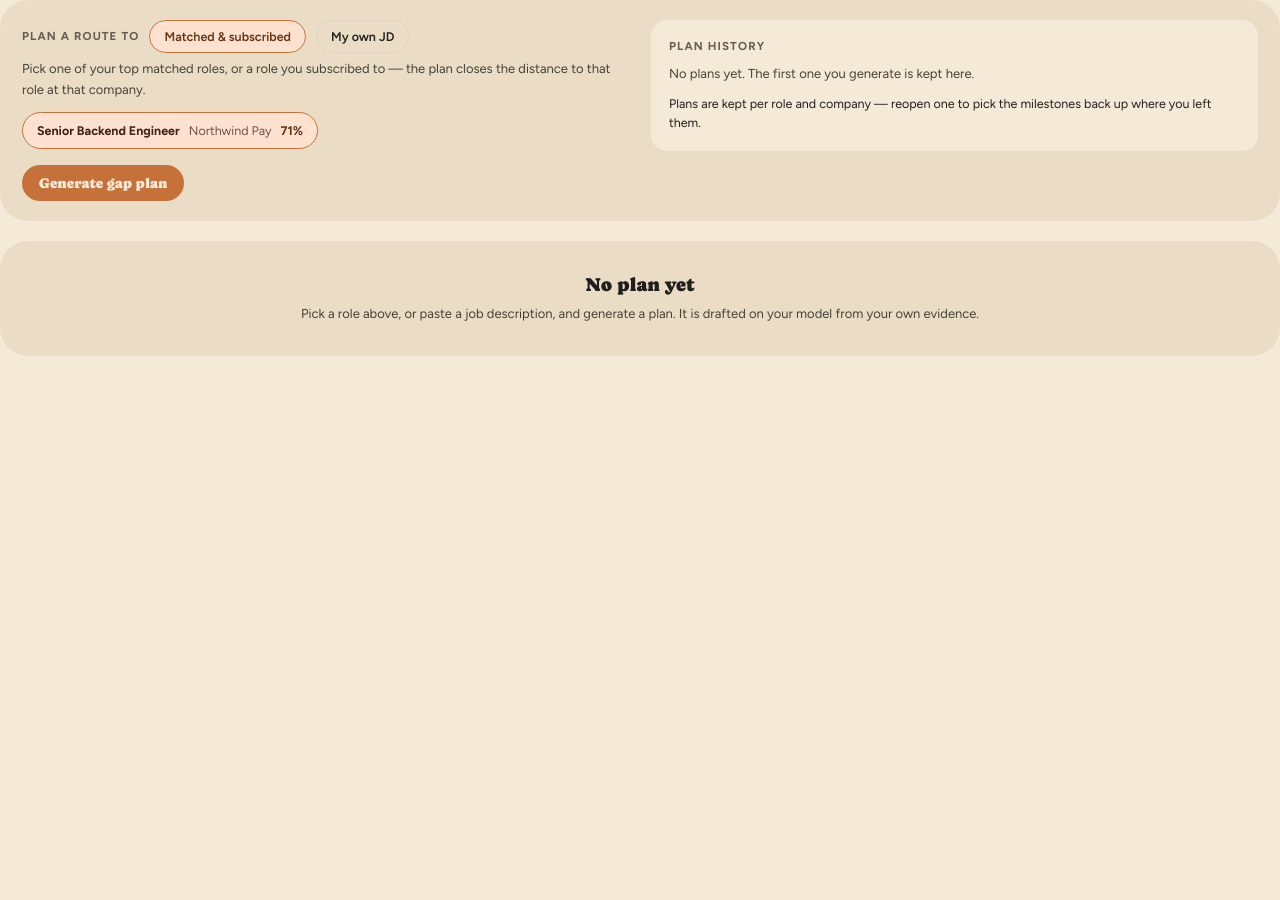
Test: gap plan screen › pastes a JD as a private target before pricing a plan for it
Click the button "My own JD" at (363, 37), box [316,20,409,53]
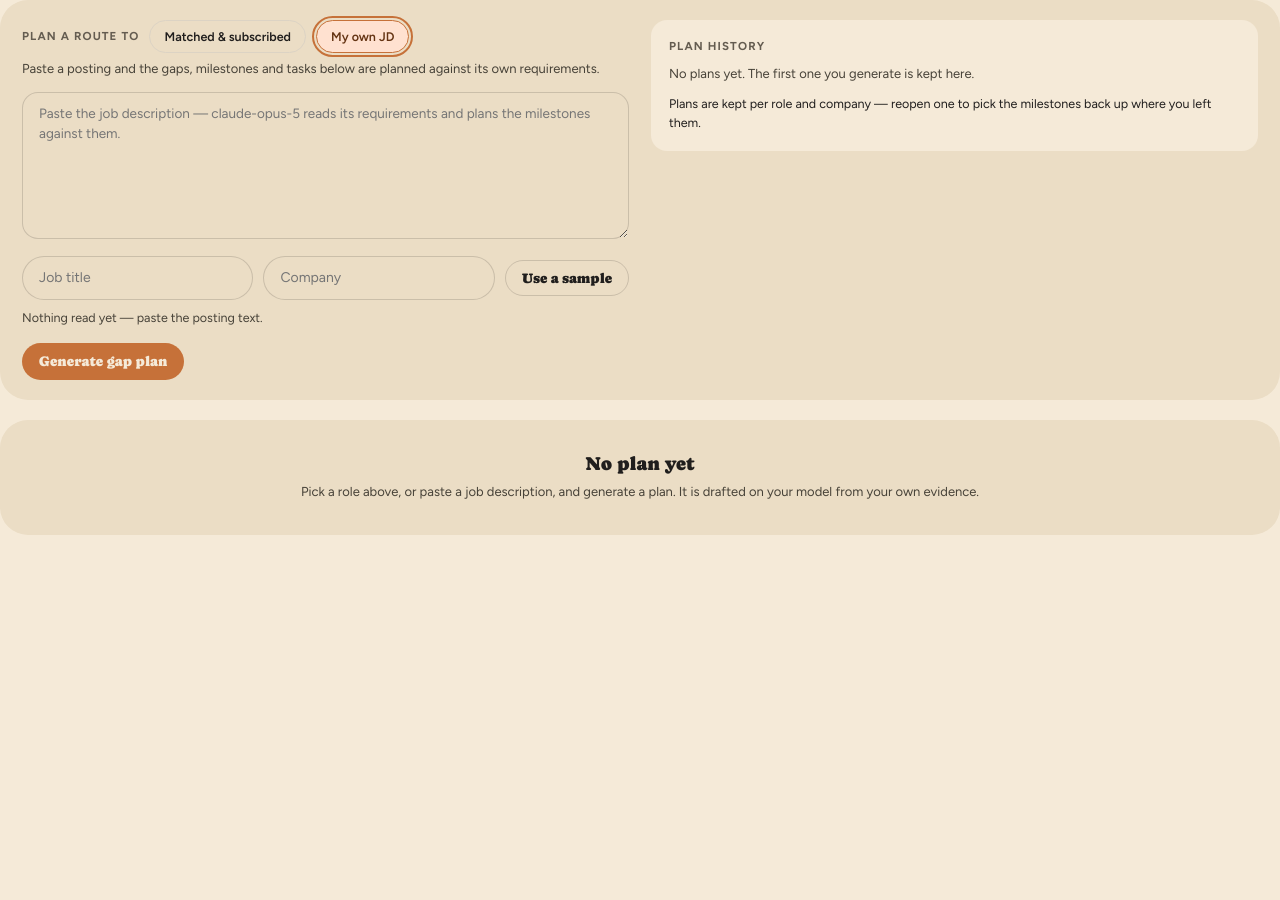
Click the button "Use a sample" at (567, 278), box [505,260,629,296]
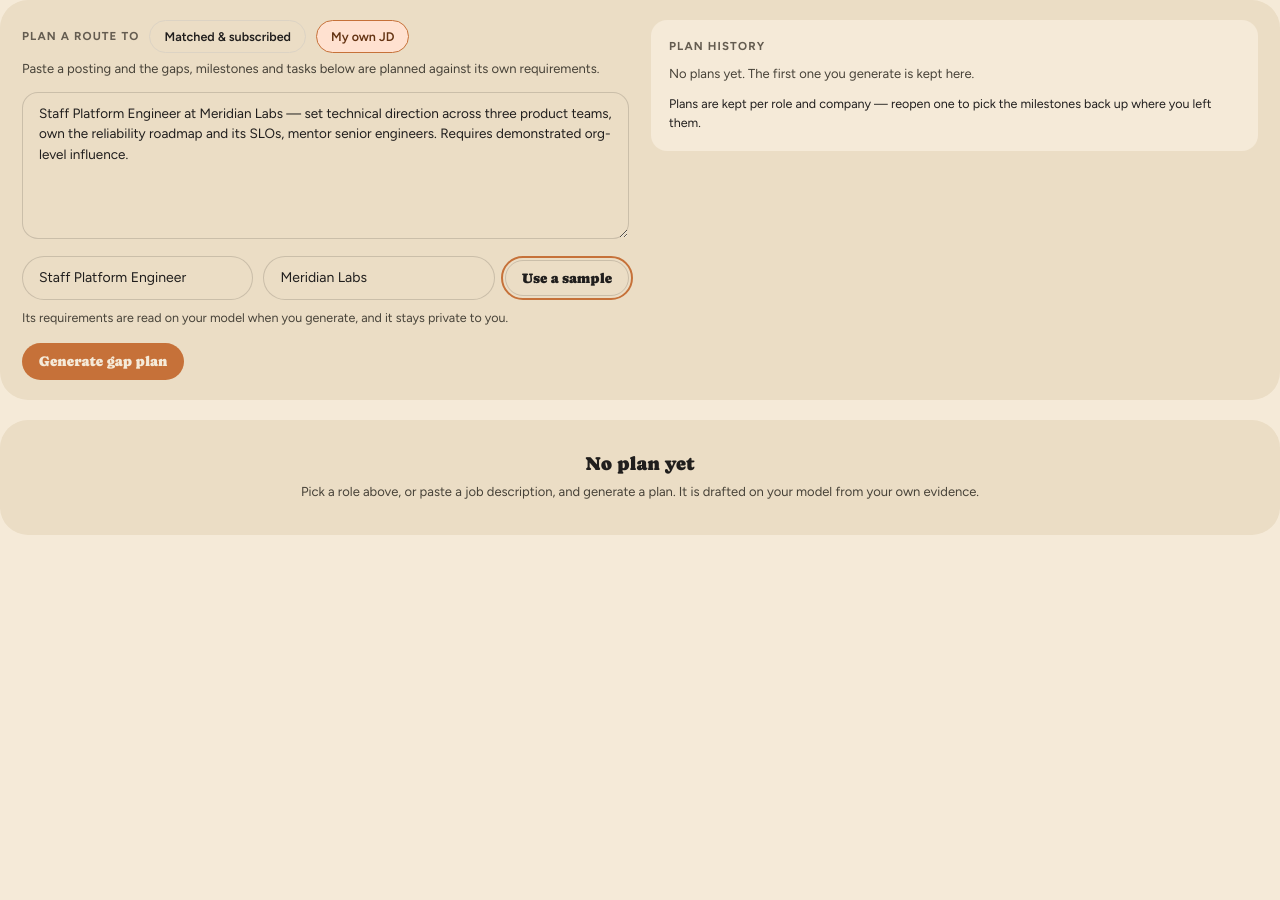
Click the button "Generate gap plan" at (103, 362), box [22,343,184,380]
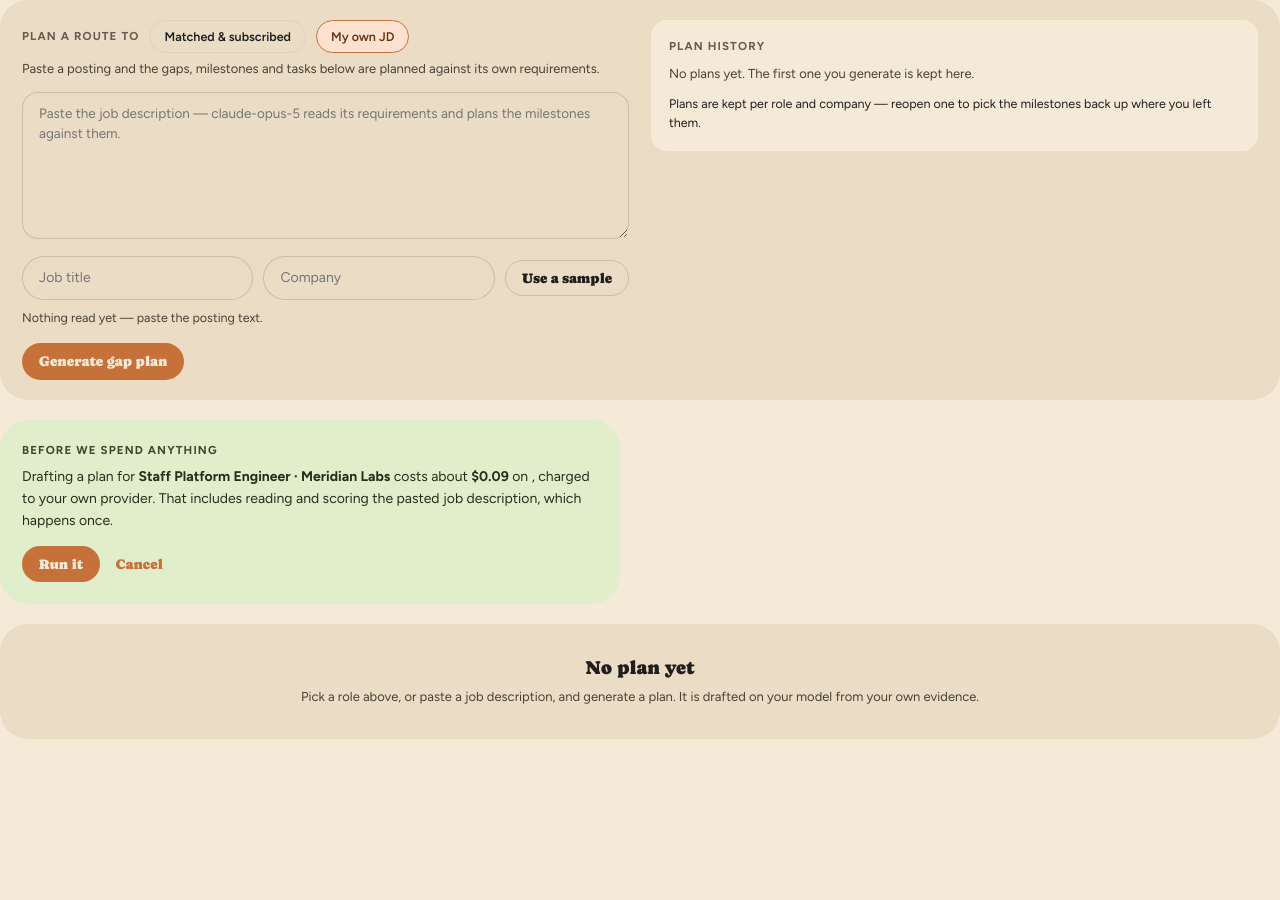
Now the element named "Cost estimate" shows "reading and scoring the pasted job description", box [22,490,581,529]
